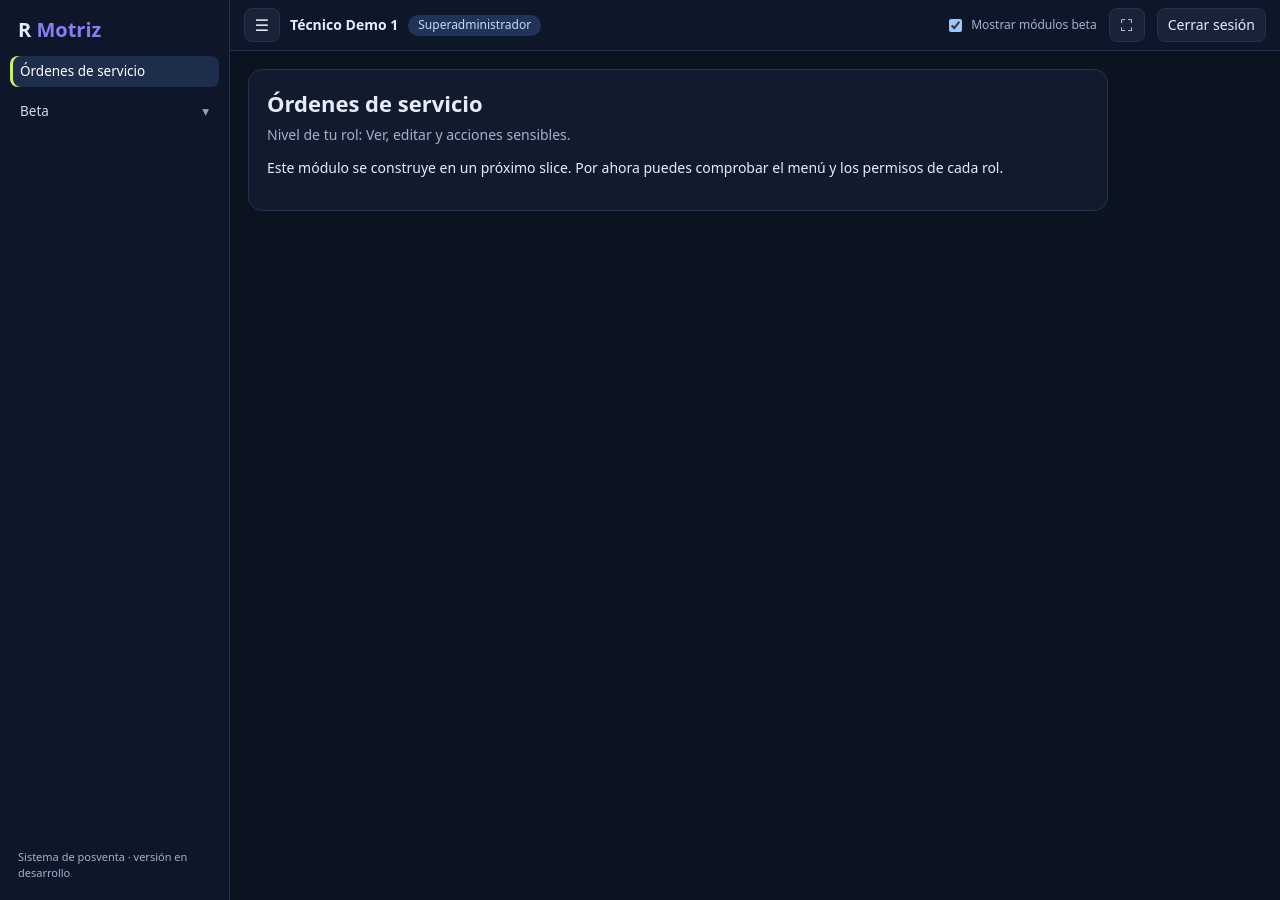
Test case: los módulos beta van al final y se pueden ocultar
Click the button "Beta ▾".
click(114, 111)  # box [10, 95, 219, 128]
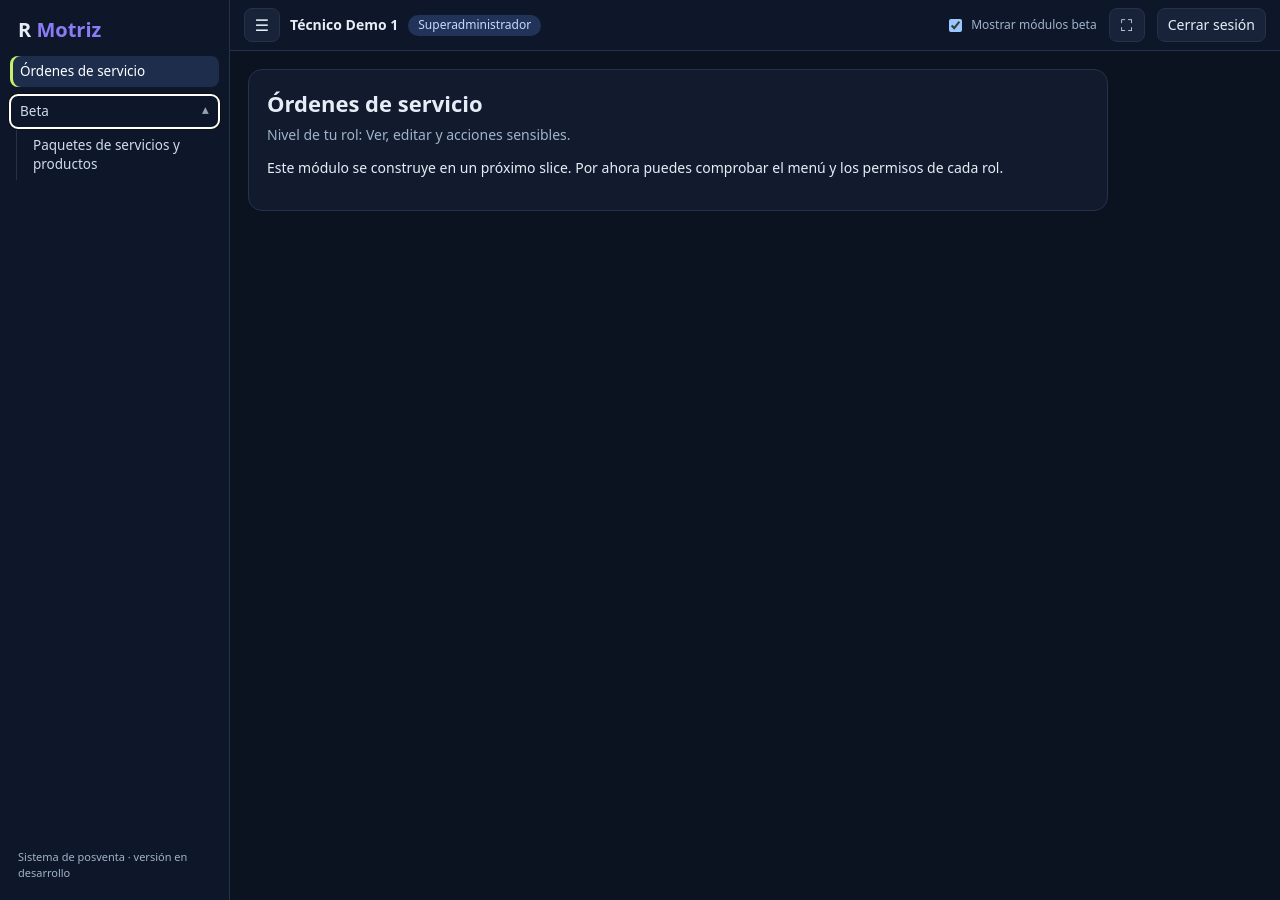
Expected: the link "Paquetes de servicios y productos" is shown, [33, 136, 180, 173]
Click the checkbox labelled "Mostrar módulos beta".
click(956, 25)  # box [949, 18, 962, 32]
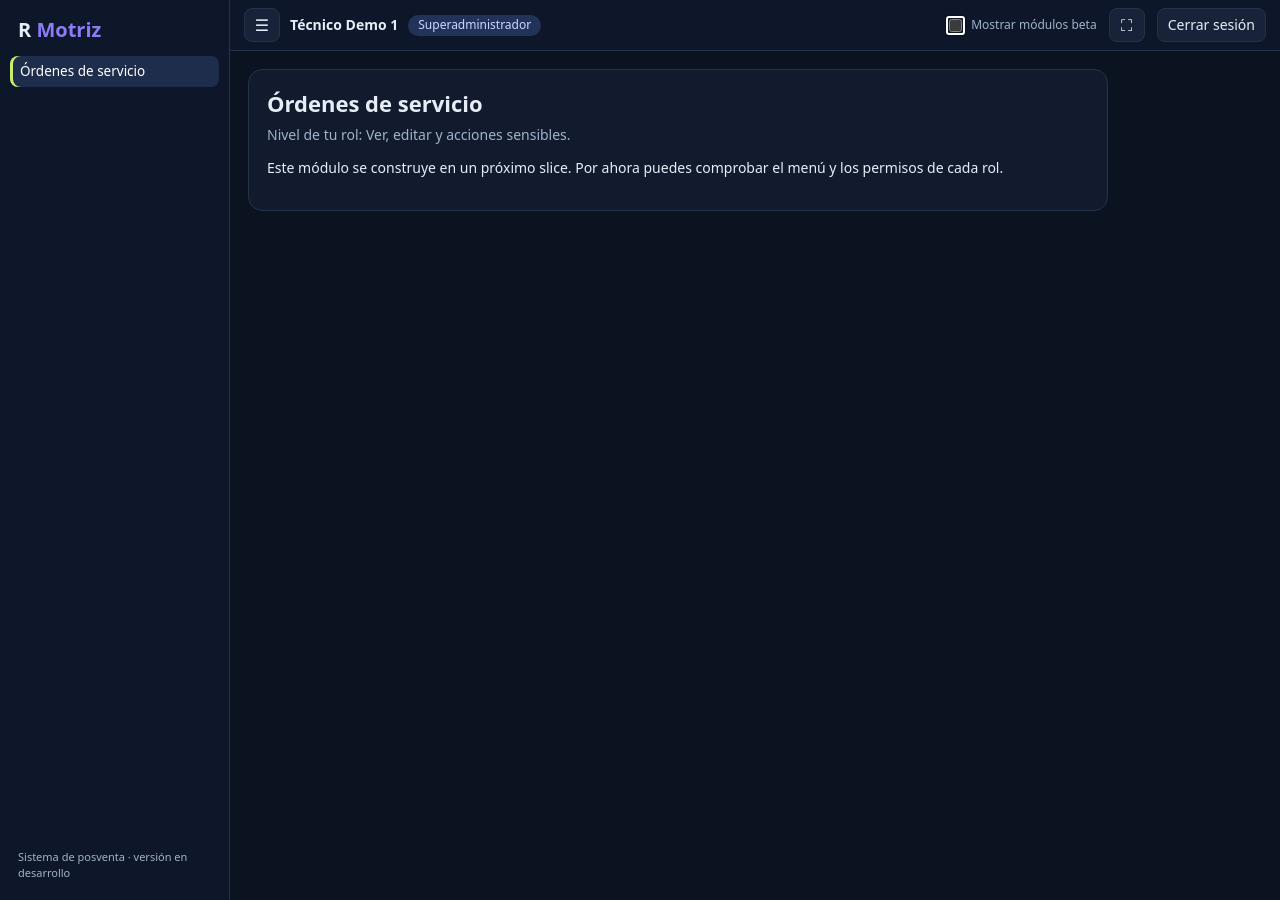
Expected: the link "Paquetes" is gone
